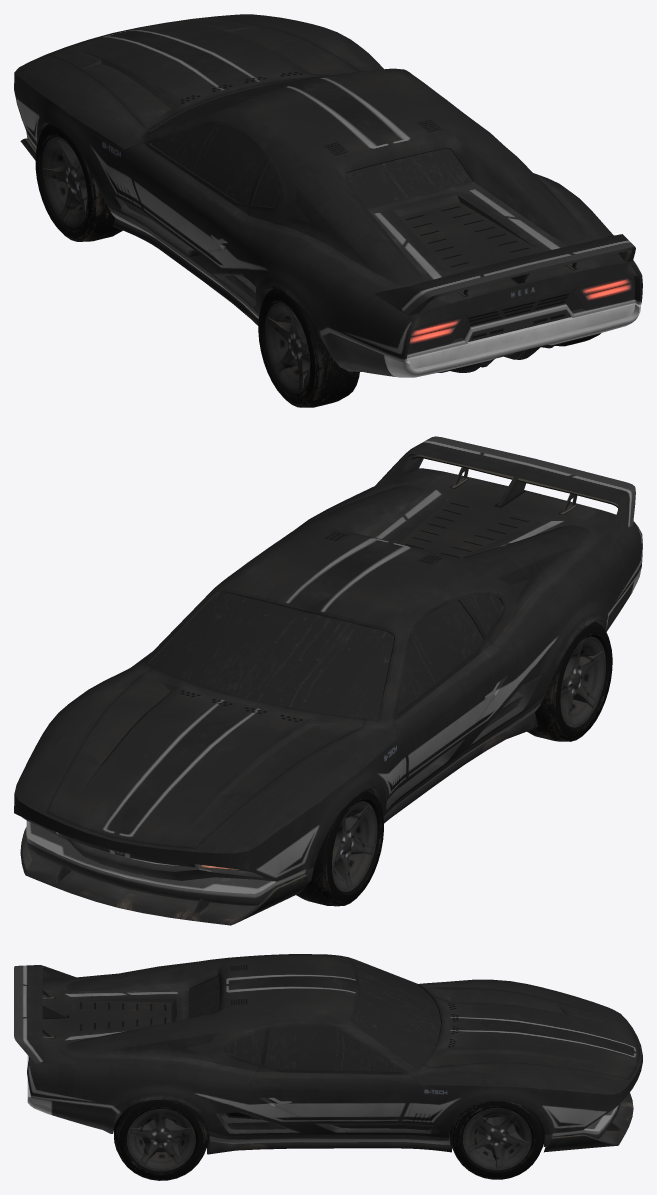
The picture shows the model from 3 angles, top to bottom: view 1: azimuth 30°, elevation 25°; view 2: azimuth 150°, elevation 25°; view 3: azimuth 270°, elevation 25°; orthographic projection. The views are drawn at different scales.
Parts seen in each view (by area): view 1: BTechFix_Vehicle_0; view 2: BTechFix_Vehicle_0; view 3: BTechFix_Vehicle_0.
Part boxes in pixels (x1,y1,x2,y2): BTechFix_Vehicle_0: (14,14,642,407); BTechFix_Vehicle_0: (14,436,642,925); BTechFix_Vehicle_0: (14,954,642,1180).
Size of the model in its own units: 329 by 208 by 799.
1 material, 1 textured.
